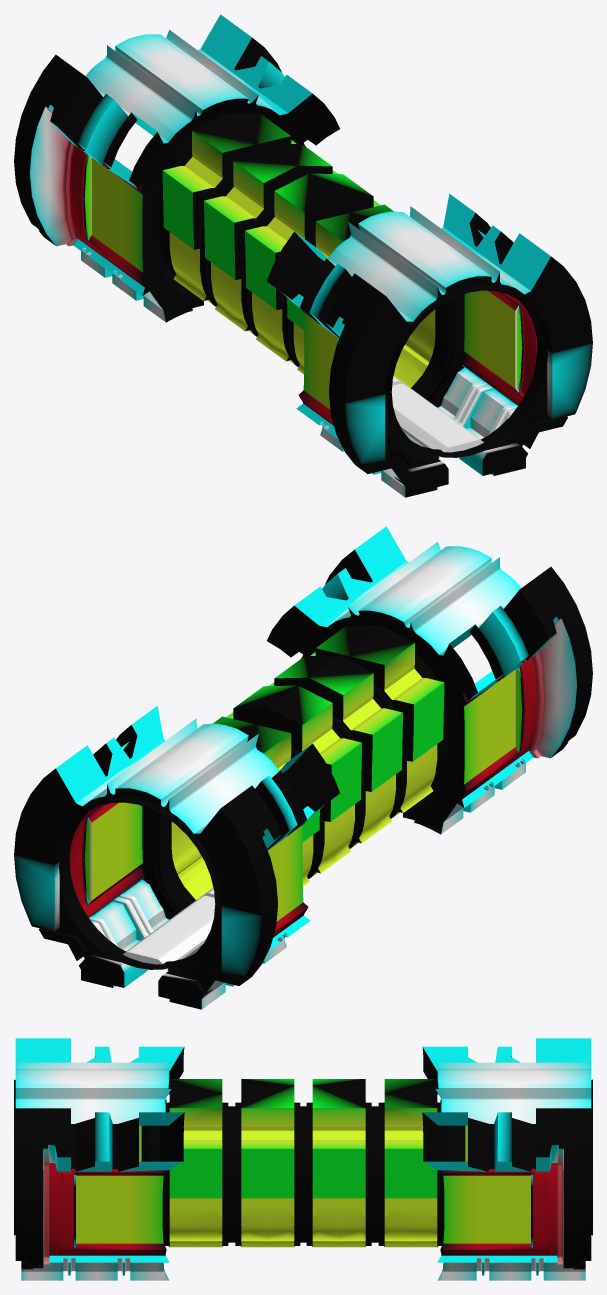
The model's file is part_main-lod0.dae.
The picture shows the model from 3 angles, top to bottom: view 1: azimuth 30°, elevation 25°; view 2: azimuth 150°, elevation 25°; view 3: azimuth 270°, elevation 25°; orthographic projection. The views are drawn at different scales.
Parts seen in each view (by area): view 1: part_main-lod0Xlod0Xp2genericXgen_p2_hullpattern_01, part_main-lod0Xlod0Xp2genericXgen_p2_hulltextureaged_02_b, part_main-lod0Xlod0Xp2genericXgen_p2_hulltexture_02_c, part_main-lod0Xlod0Xp2multimatXp2_multimat_01; view 2: part_main-lod0Xlod0Xp2genericXgen_p2_hullpattern_01, part_main-lod0Xlod0Xp2genericXgen_p2_hulltextureaged_02_b, part_main-lod0Xlod0Xp2genericXgen_p2_hulltexture_02_c, part_main-lod0Xlod0Xp2multimatXp2_multimat_01; view 3: part_main-lod0Xlod0Xp2genericXgen_p2_hullpattern_01, part_main-lod0Xlod0Xp2genericXgen_p2_hulltextureaged_02_b, part_main-lod0Xlod0Xp2genericXgen_p2_hulltexture_02_c, part_main-lod0Xlod0Xp2multimatXp2_multimat_01.
Part boxes in pixels (x1,y1,x2,y2): part_main-lod0Xlod0Xp2genericXgen_p2_hullpattern_01: [14, 14, 592, 497]; part_main-lod0Xlod0Xp2genericXgen_p2_hulltextureaged_02_b: [30, 30, 567, 497]; part_main-lod0Xlod0Xp2genericXgen_p2_hulltexture_02_c: [85, 34, 518, 419]; part_main-lod0Xlod0Xp2multimatXp2_multimat_01: [70, 112, 536, 424]; part_main-lod0Xlod0Xp2genericXgen_p2_hullpattern_01: [14, 526, 592, 1009]; part_main-lod0Xlod0Xp2genericXgen_p2_hulltextureaged_02_b: [39, 542, 576, 1009]; part_main-lod0Xlod0Xp2genericXgen_p2_hulltexture_02_c: [88, 546, 521, 931]; part_main-lod0Xlod0Xp2multimatXp2_multimat_01: [70, 624, 536, 936]; part_main-lod0Xlod0Xp2genericXgen_p2_hullpattern_01: [15, 1038, 591, 1275]; part_main-lod0Xlod0Xp2genericXgen_p2_hulltextureaged_02_b: [14, 1062, 592, 1280]; part_main-lod0Xlod0Xp2genericXgen_p2_hulltexture_02_c: [15, 1068, 591, 1249]; part_main-lod0Xlod0Xp2multimatXp2_multimat_01: [50, 1056, 556, 1254].
Size of the model in its own units: 27.74 by 22.3 by 64.39.
